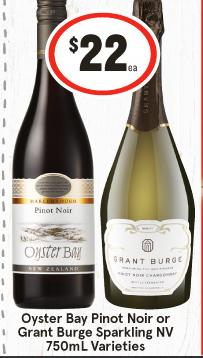description_block: (11, 311, 178, 354)
price_main: (47, 17, 153, 91)
product_image_block: (14, 78, 197, 310)
